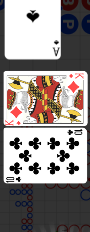10C: (67, 128, 84, 136)
AS: (52, 38, 61, 57)
